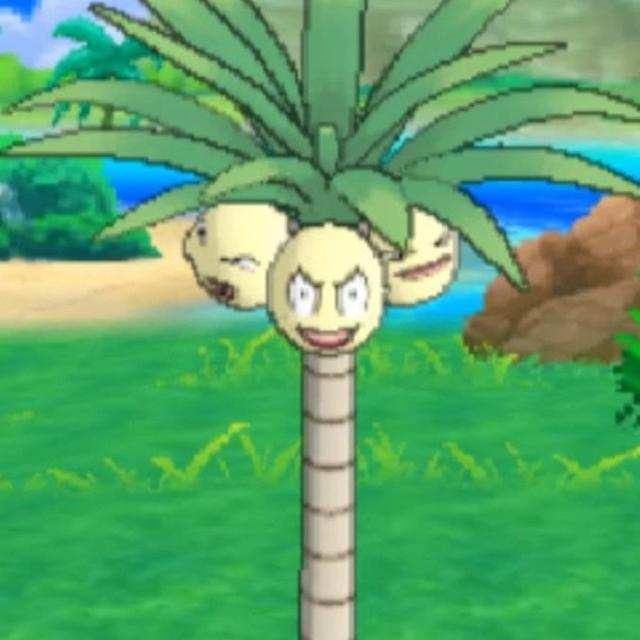Exeggutor: (186, 122, 465, 640)
